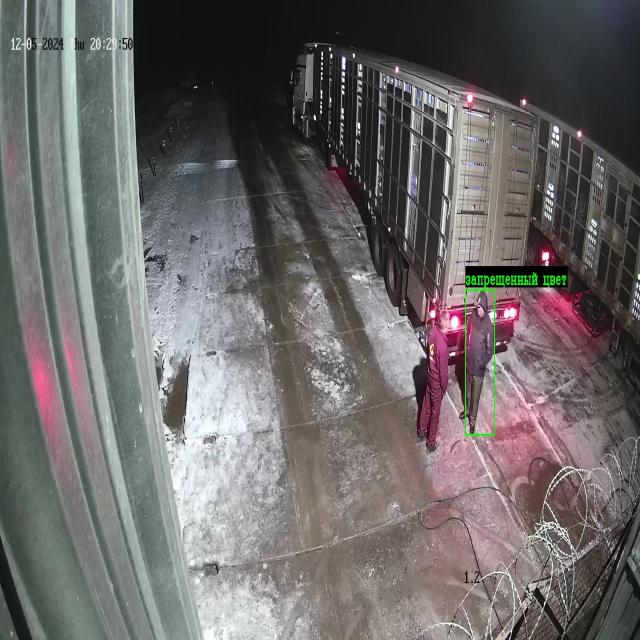Person: (467, 293, 494, 433)
Red uniform: (417, 321, 449, 451)
